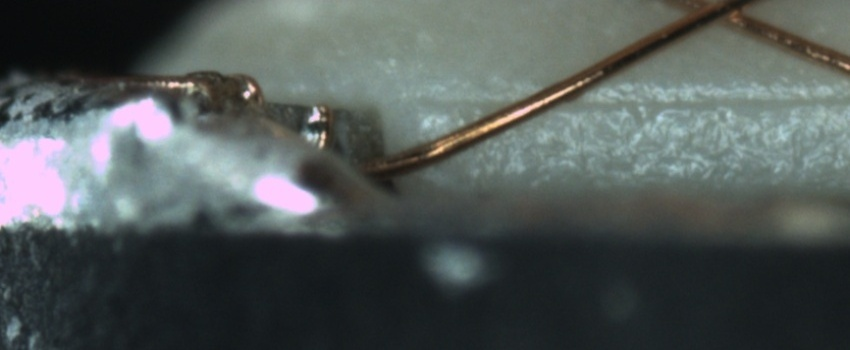CL: (688, 1, 768, 32)
DL: (435, 74, 849, 139)
TE: (94, 58, 336, 172)
